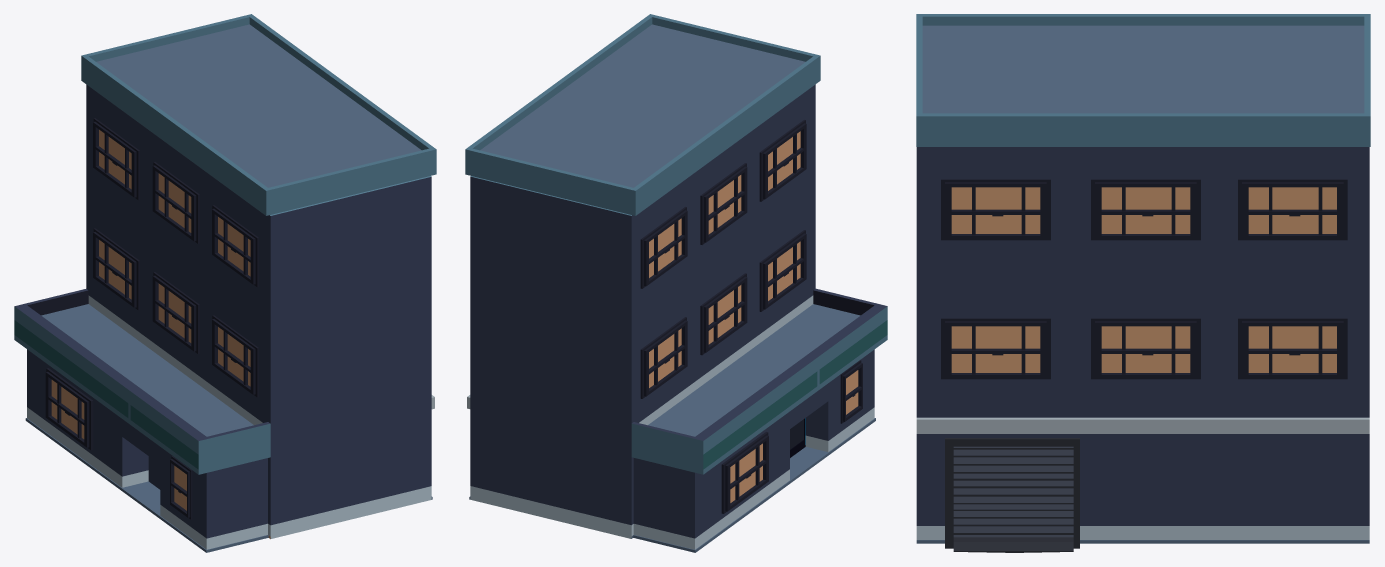
Rendered from Building_Wide03.fbx.
3 renders of one model, left to right at view 1: azimuth 30°, elevation 25°; view 2: azimuth 150°, elevation 25°; view 3: azimuth 270°, elevation 25°, orthographic. The views are drawn at different scales.
Visible parts, largest first — view 1: Cube.410; view 2: Cube.410; view 3: Cube.410.
Part boxes in pixels (x1,y1,x2,y2): Cube.410: (14, 14, 436, 552); Cube.410: (465, 14, 887, 552); Cube.410: (916, 14, 1370, 552).
Bounding box in the file's own units: 700 × 984 × 932.
